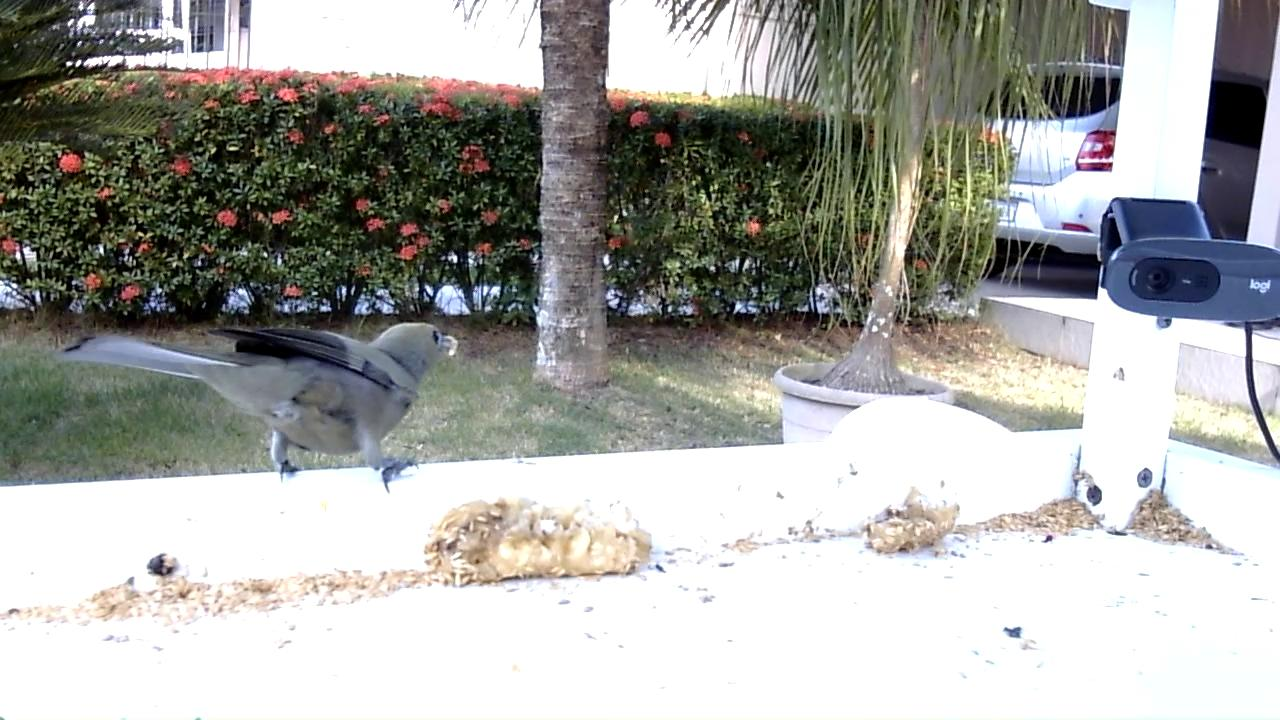sanhaco_do_coqueiro: (57, 322, 460, 493)
